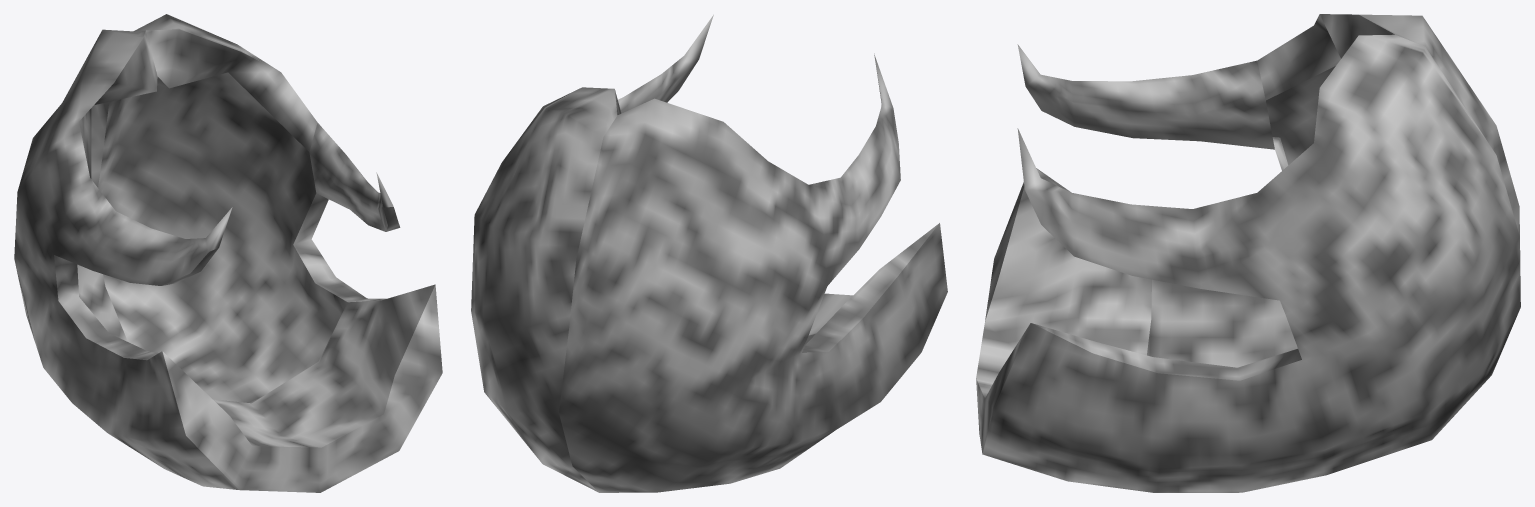
Rendered from Wig_Kate_Hair_GrungeyParting.fbx.
3 renders of one model, left to right at view 1: azimuth 30°, elevation 25°; view 2: azimuth 150°, elevation 25°; view 3: azimuth 270°, elevation 25°, orthographic. The views are drawn at different scales.
Parts seen in each view (by area): view 1: BoxOfJars003; view 2: BoxOfJars003; view 3: BoxOfJars003.
Part boxes in pixels (x1=…): BoxOfJars003: x1=14, y1=14, x2=442, y2=492; BoxOfJars003: x1=471, y1=14, x2=947, y2=492; BoxOfJars003: x1=976, y1=14, x2=1520, y2=492.
Bounding box in the file's own units: 11.53 × 14.51 × 16.28.
